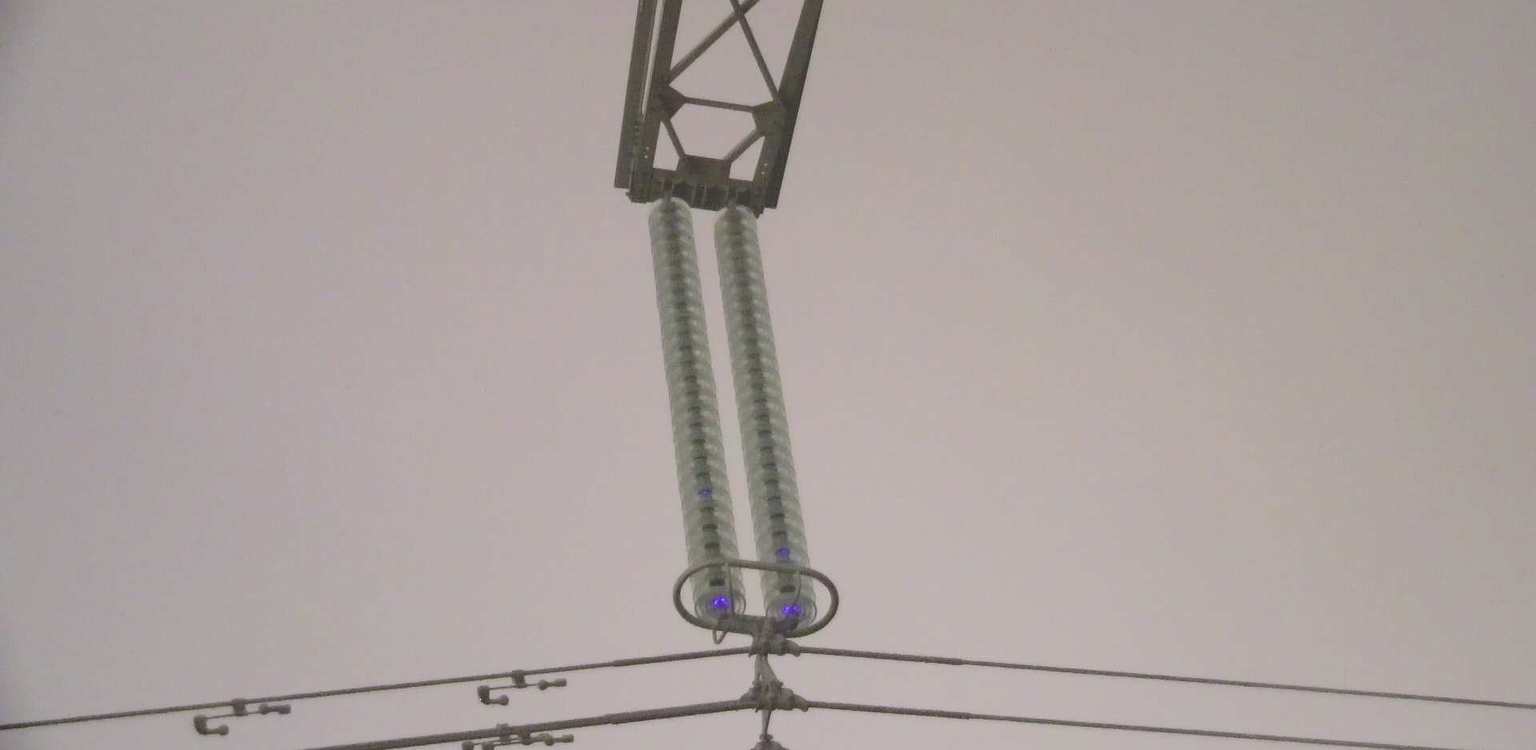绝缘子污闪: (781, 603, 799, 616), (711, 596, 730, 608), (778, 548, 788, 555), (702, 490, 707, 495)
